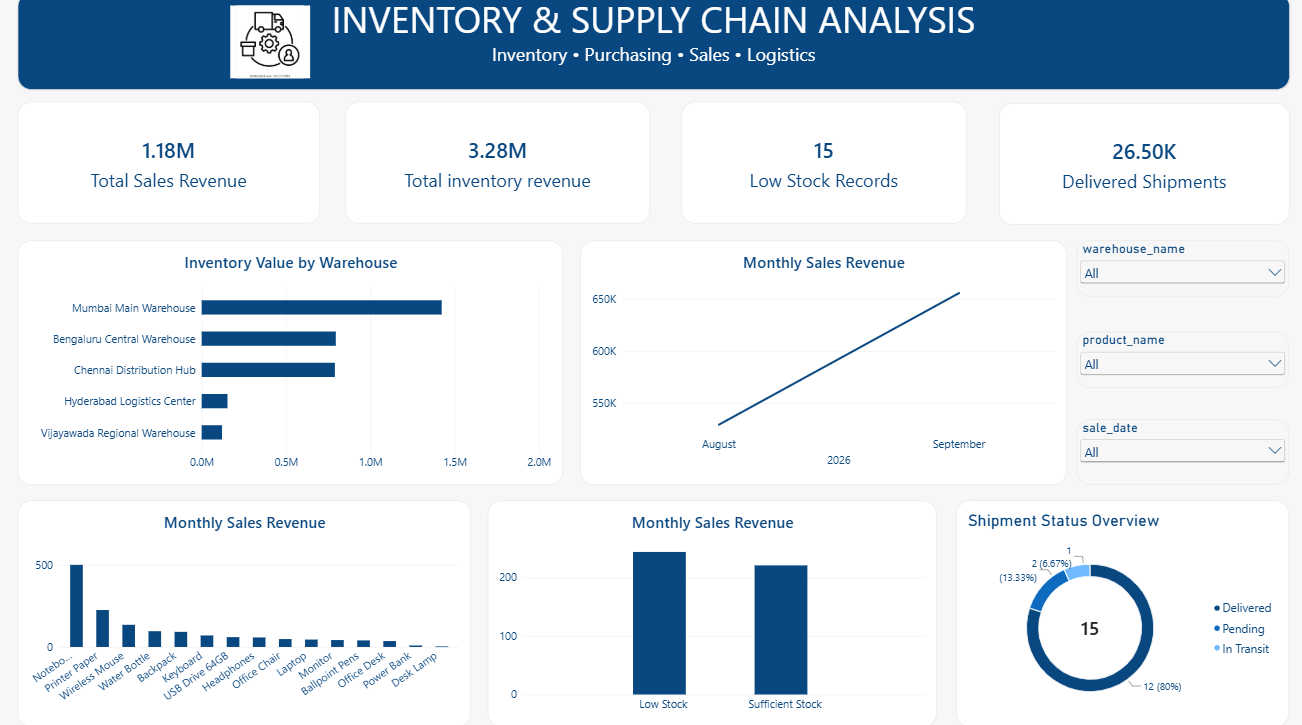

The dashboard page shown, as its layout file describes it:
{"tool":"powerbi","page":{"name":"Page 1","canvas":[1920,1080],"ordinal":0},"visuals":[{"type":"textbox","box":[26.8,0,1873.1,142],"z":0},{"type":"card","fields":{"Values":["inventory_supply_chain inventory.Total Sales Revenue"]},"box":[26.8,160.5,444.6,179.1],"z":1000},{"type":"card","fields":{"Values":["inventory_supply_chain inventory.Total inventory revenue"]},"box":[510.5,160.5,448.7,179.1],"z":2000},{"type":"card","fields":{"Values":["inventory_supply_chain inventory.Low Stock Records"]},"box":[1004.5,160.5,419.9,179.1],"z":3000},{"type":"card","fields":{"Values":["inventory_supply_chain inventory.Delivered Shipments"]},"box":[1471.7,162.6,428.1,179.1],"z":4000},{"type":"lineChart","title":"Monthly Sales Revenue","fields":{"Category":["inventory_supply_chain sales.sale_date.Variation.Date Hierarchy.Year","inventory_supply_chain sales.sale_date.Variation.Date Hierarchy.Month"],"Y":["inventory_supply_chain inventory.Total Sales Revenue"]},"box":[856.3,364.3,716.3,360.2],"z":5000},{"type":"clusteredBarChart","title":"Inventory Value by Warehouse","fields":{"Category":["inventory_supply_chain warehouses.warehouse_name"],"Y":["inventory_supply_chain inventory.Total inventory revenue"]},"box":[26.8,364.3,802.7,360.2],"z":6000},{"type":"clusteredColumnChart","title":"Monthly Sales Revenue","fields":{"Category":["inventory_supply_chain products.product_name"],"Y":["Sum(inventory_supply_chain inventory.stock_quantity)"]},"box":[26.8,747.2,666.9,333.4],"z":7000},{"type":"columnChart","title":"Monthly Sales Revenue","fields":{"Category":["inventory_supply_chain inventory.Stock Status"],"Y":["Sum(inventory_supply_chain inventory.inventory_id)"]},"box":[720.4,747.2,660.7,333.4],"z":8000},{"type":"donutChart","title":"Shipment Status Overview","fields":{"Category":["inventory_supply_chain shipments.shipment_status"],"Y":["CountNonNull(inventory_supply_chain shipments.Shipment_id)"]},"box":[1410,747.2,489.9,333.4],"z":9000},{"type":"slicer","fields":{"Values":["inventory_supply_chain warehouses.warehouse_name"]},"box":[1587,364.3,312.9,82.3],"z":10000},{"type":"slicer","fields":{"Values":["inventory_supply_chain products.product_name"]},"box":[1587,498.1,312.9,82.3],"z":11000},{"type":"slicer","fields":{"Values":["inventory_supply_chain sales.sale_date"]},"box":[1587,627.8,312.9,96.7],"z":12000},{"type":"image","box":[339.6,18.5,117.3,107],"z":12001}]}

Visuals, with their boxes in screenshot pixels (x1, y1, x2, y2), scaled from the page's 1920x1080 canvas onto the 1302x725 screenshot:
textbox: <bbox>18, 0, 1288, 95</bbox>
card - inventory_supply_chain inventory.Total Sales Revenue: <bbox>18, 108, 320, 228</bbox>
card - inventory_supply_chain inventory.Total inventory revenue: <bbox>346, 108, 650, 228</bbox>
card - inventory_supply_chain inventory.Low Stock Records: <bbox>681, 108, 966, 228</bbox>
card - inventory_supply_chain inventory.Delivered Shipments: <bbox>998, 109, 1288, 229</bbox>
"Monthly Sales Revenue" lineChart: <bbox>581, 245, 1066, 486</bbox>
"Inventory Value by Warehouse" clusteredBarChart: <bbox>18, 245, 563, 486</bbox>
"Monthly Sales Revenue" clusteredColumnChart: <bbox>18, 502, 470, 724</bbox>
"Monthly Sales Revenue" columnChart: <bbox>489, 502, 937, 724</bbox>
"Shipment Status Overview" donutChart: <bbox>956, 502, 1288, 724</bbox>
slicer - inventory_supply_chain warehouses.warehouse_name: <bbox>1076, 245, 1288, 300</bbox>
slicer - inventory_supply_chain products.product_name: <bbox>1076, 334, 1288, 390</bbox>
slicer - inventory_supply_chain sales.sale_date: <bbox>1076, 421, 1288, 486</bbox>
image: <bbox>230, 12, 310, 84</bbox>
